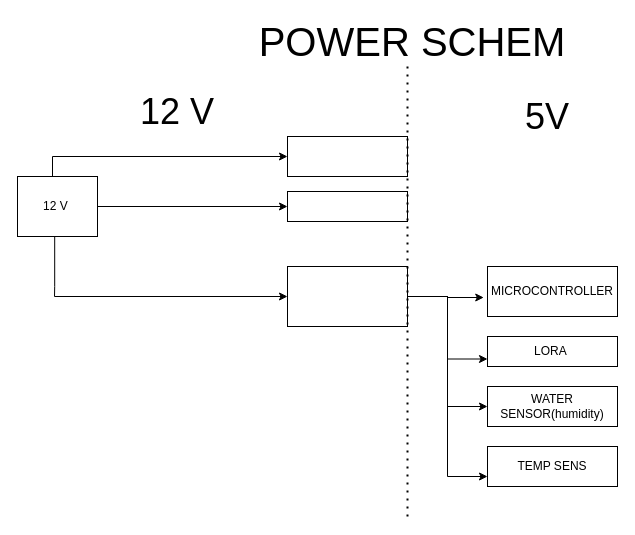
Some shapes in this 635 by 535 pixel diagram are drawn without their labels. Each missing label, with the centre of its shape:
12 V TO 3.3V CONVERTER: (347,296)
FAN: (347,206)
WATER PUMP (12 V): (347,156)
